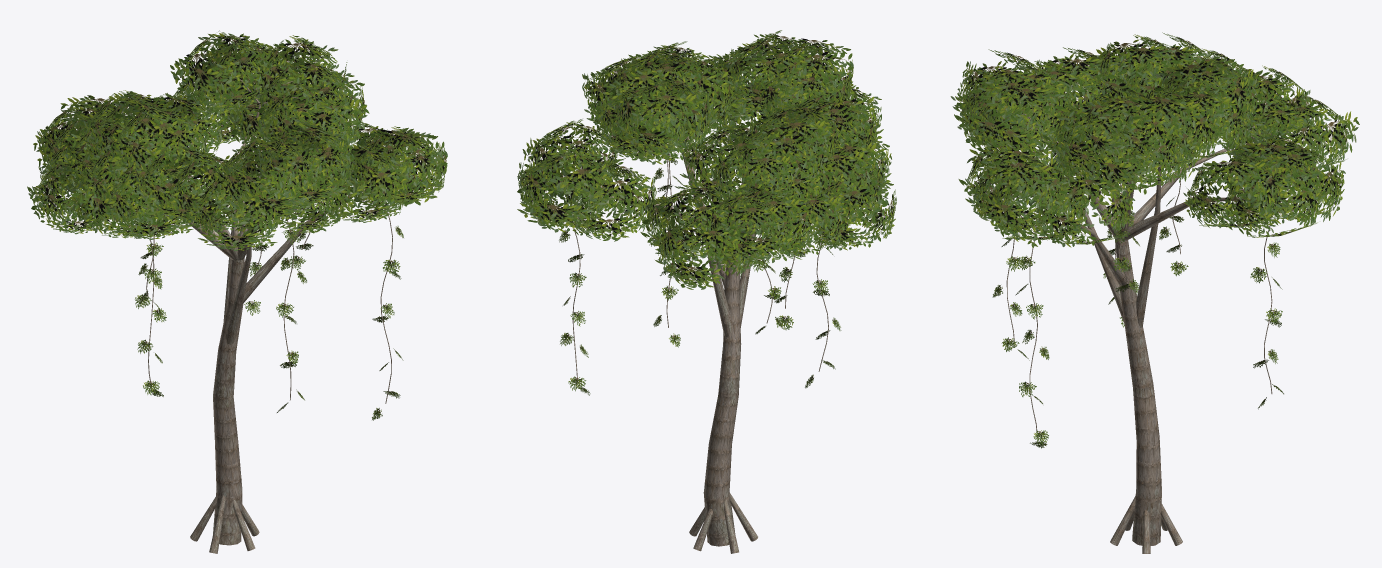
File: tree_03.glb
3 renders of one model, left to right at view 1: azimuth 30°, elevation 25°; view 2: azimuth 150°, elevation 25°; view 3: azimuth 270°, elevation 25°, orthographic. The views are drawn at different scales.
Visible parts, largest first — view 1: tree_03; view 2: tree_03; view 3: tree_03.
Boxes of the visible parts, x1=… form: tree_03: x1=27, y1=30, x2=447, y2=553; tree_03: x1=517, y1=30, x2=896, y2=553; tree_03: x1=950, y1=32, x2=1359, y2=553.
Size of the model in its own units: 8.77 by 11.17 by 8.62.
Materials: 2 (2 with a texture image).
